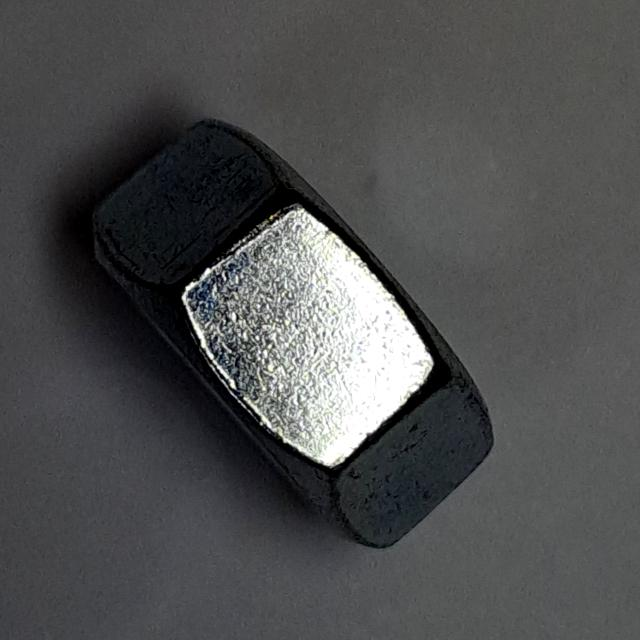Side_Excellent: (70, 98, 517, 565)
